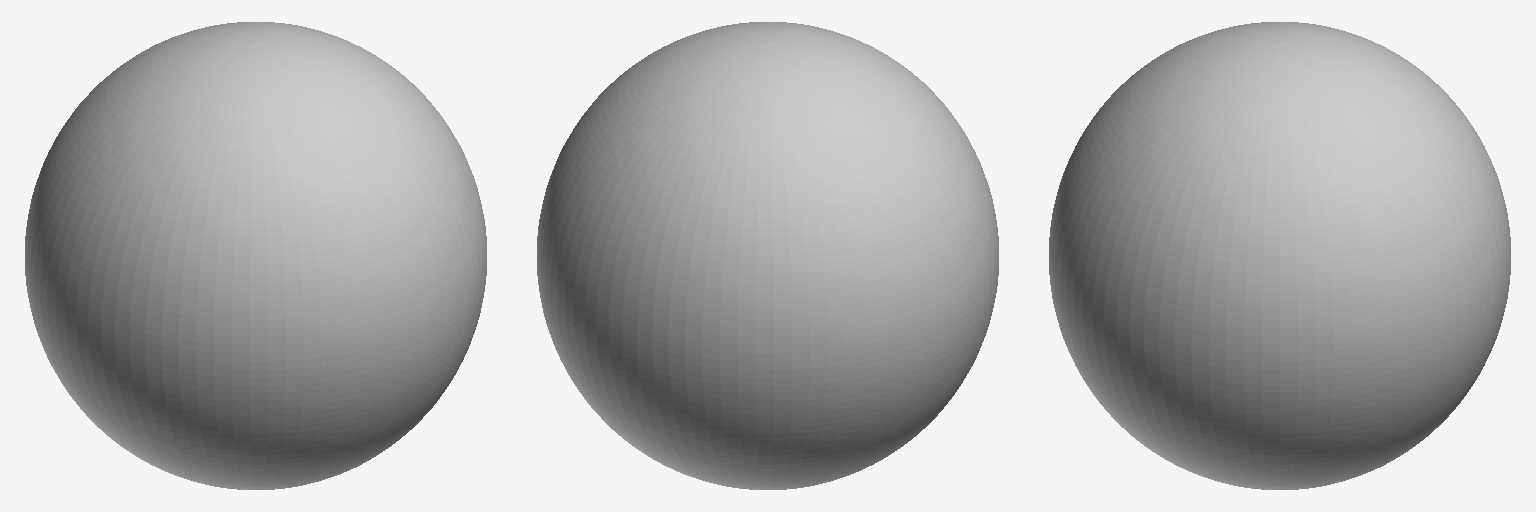
The model's file is f_rshoulder.obj.
3 views of the same model, side by side, from view 1: azimuth 30°, elevation 25°; view 2: azimuth 150°, elevation 25°; view 3: azimuth 270°, elevation 25° (orthographic).
Visible parts, largest first — view 1: pSphere3; view 2: pSphere3; view 3: pSphere3.
Part boxes in pixels (x1,y1,x2,y2): pSphere3: (25, 22, 486, 489); pSphere3: (537, 22, 998, 489); pSphere3: (1049, 22, 1510, 489).
Size of the model in its own units: 0.447 by 0.455 by 0.447.